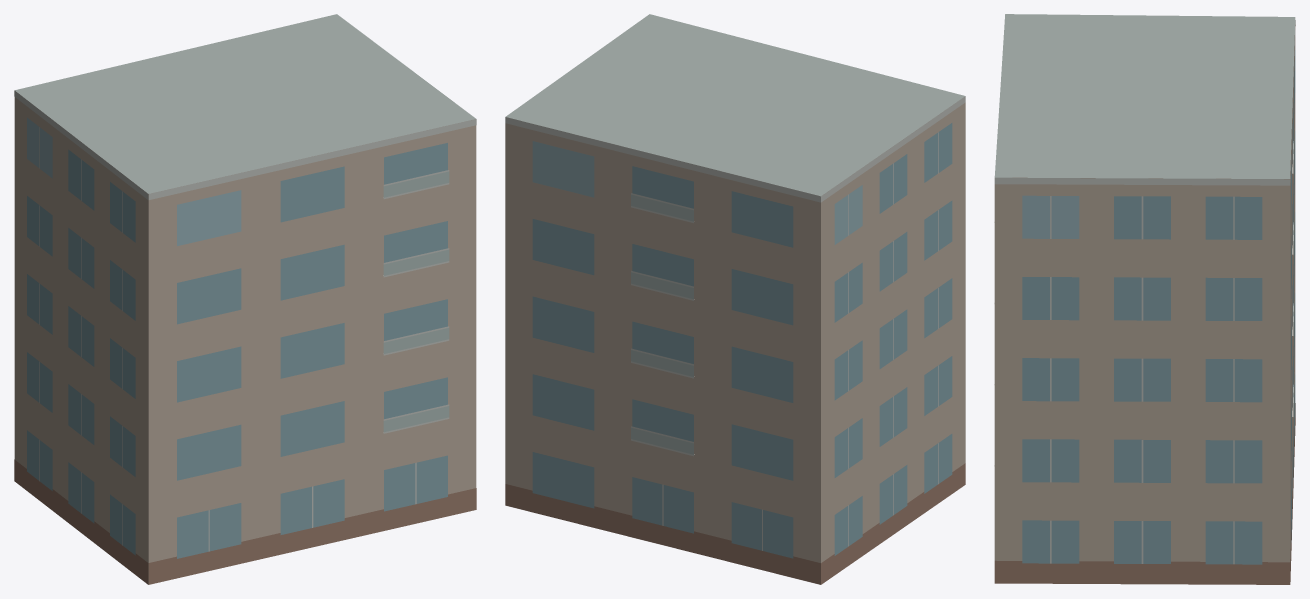
Rendered from survey-upis-32775995.glb.
3 renders of one model, left to right at view 1: azimuth 30°, elevation 25°; view 2: azimuth 150°, elevation 25°; view 3: azimuth 270°, elevation 25°, orthographic. The views are drawn at different scales.
Visible parts, largest first — view 1: survey-upis-32775995.tmp; view 2: survey-upis-32775995.tmp; view 3: survey-upis-32775995.tmp.
Boxes of the visible parts, bbox=[...] form: survey-upis-32775995.tmp: bbox=[14, 14, 476, 584]; survey-upis-32775995.tmp: bbox=[505, 14, 965, 584]; survey-upis-32775995.tmp: bbox=[994, 14, 1295, 584].
Bounding box in the file's own units: 13.18 × 15.1 × 10.16.
